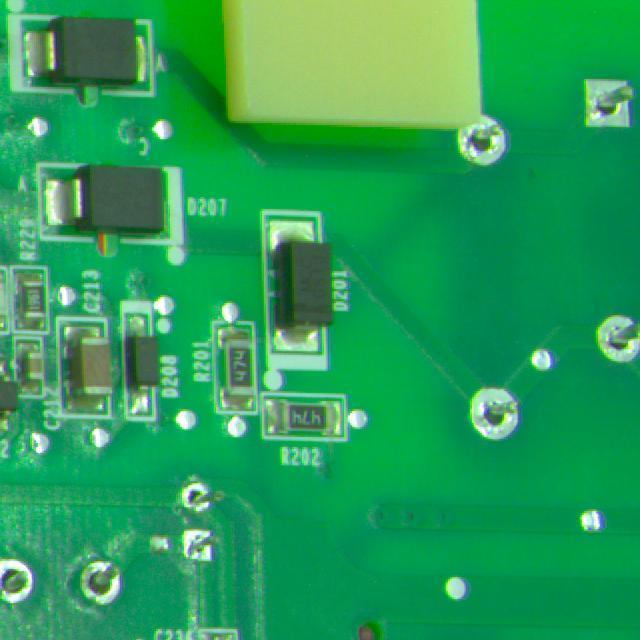Insufficient solder: (461, 377, 532, 446), (581, 65, 640, 147), (449, 104, 505, 176), (589, 310, 640, 365), (75, 557, 126, 608), (178, 525, 221, 570), (0, 554, 35, 603), (179, 475, 215, 518)
